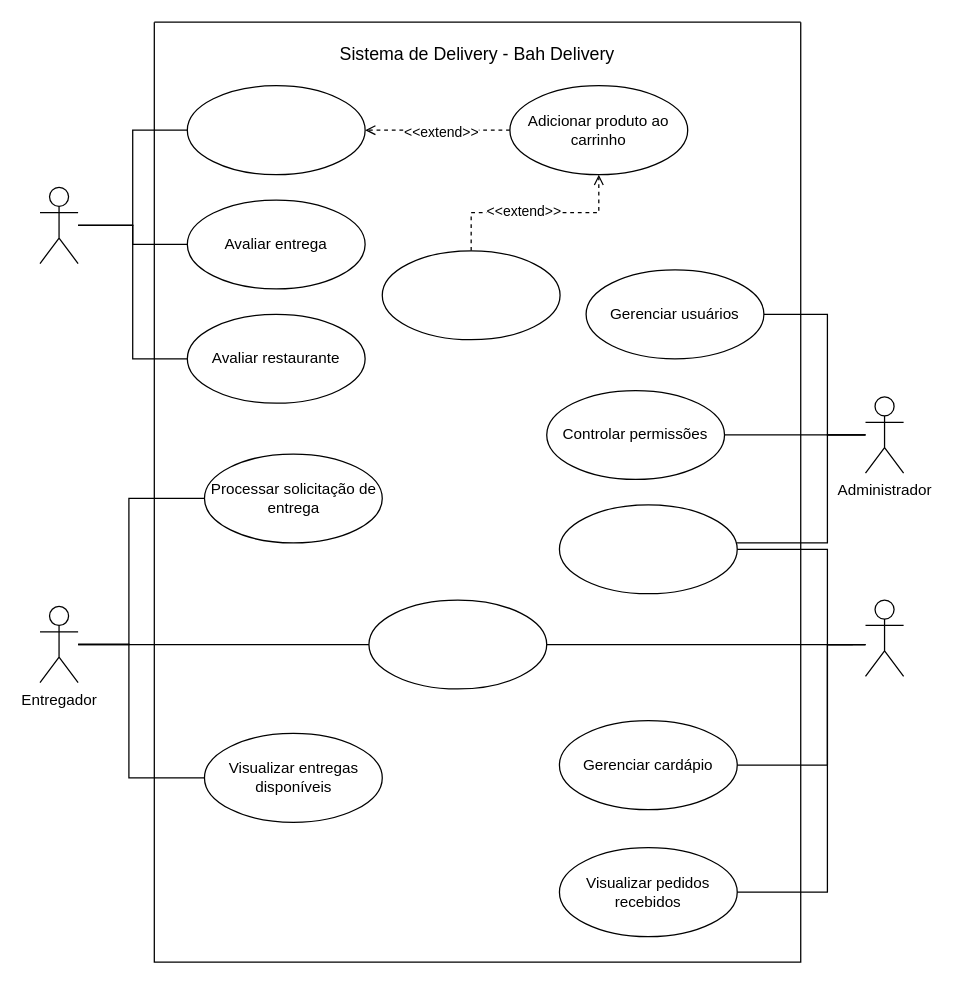
Image size: 954x984. Some labels were removed from this diagram. Here are the shapes that lost their labels. From the top down, the centre of each, then its label:
At (275,129): "Consultar cardápio".
At (58,225): "Cliente".
At (470,295): "Realizar pedido".
At (647,549): "Gerenciar restaurante".
At (457,644): "Alterar status do pedido".
At (884,637): "Restaurante".
